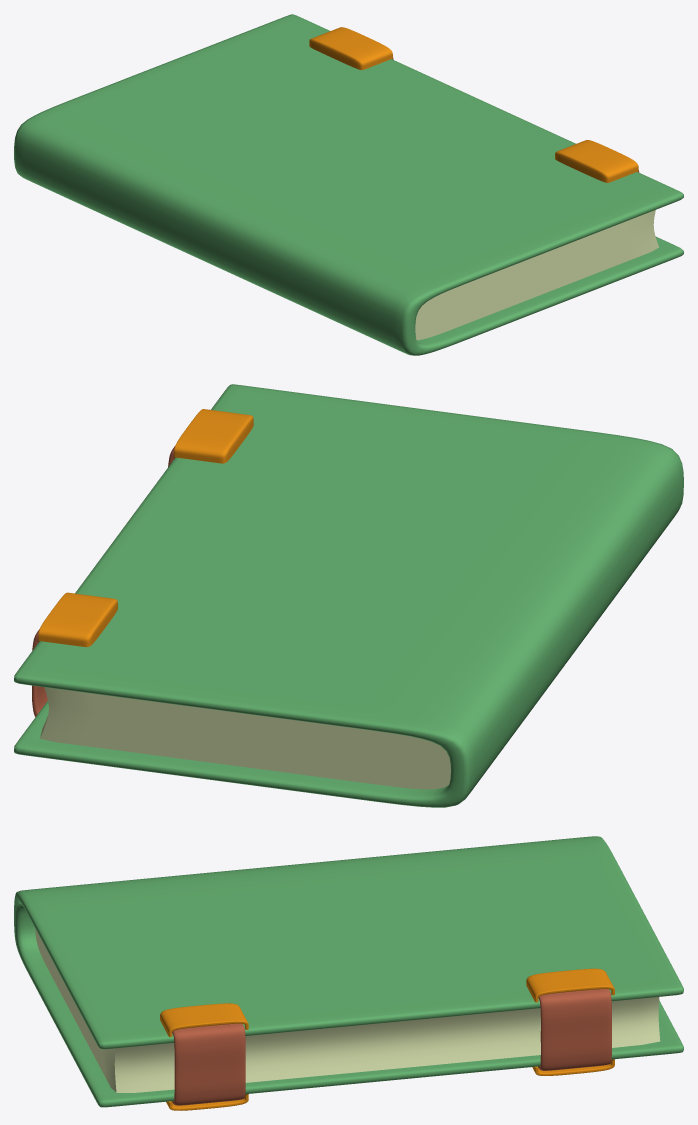
File: book.fbx
3 views of the same model, one above another, from view 1: azimuth 30°, elevation 25°; view 2: azimuth 150°, elevation 25°; view 3: azimuth 270°, elevation 25° (orthographic). The views are drawn at different scales.
Parts seen in each view (by area): view 1: cover.005, paper.004, latch.004; view 2: cover.005, paper.004, latch.004; view 3: cover.005, paper.004, strap.004, latch.004.
Part boxes in pixels (x1,y1,x2,y2): cover.005: (14, 14, 683, 355); paper.004: (415, 210, 658, 340); latch.004: (309, 27, 638, 182); cover.005: (14, 384, 683, 807); paper.004: (40, 687, 450, 789); latch.004: (38, 409, 253, 647); cover.005: (14, 836, 683, 1107); paper.004: (35, 929, 660, 1092); strap.004: (172, 989, 611, 1105); latch.004: (160, 968, 614, 1110).
Size of the model in its own units: 120 by 22.15 by 157.
